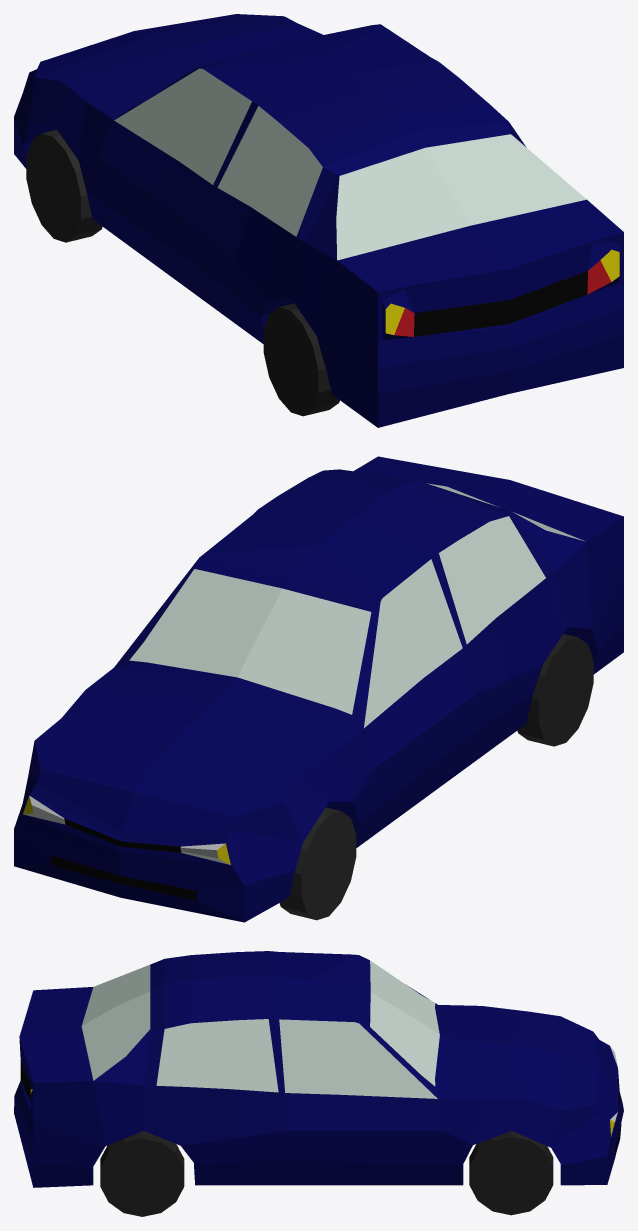
Rendered from accent.fbx.
The picture shows the model from 3 angles, top to bottom: view 1: azimuth 30°, elevation 25°; view 2: azimuth 150°, elevation 25°; view 3: azimuth 270°, elevation 25°; orthographic projection. The views are drawn at different scales.
Visible parts, largest first — view 1: Plane, Cylinder.001, Cylinder; view 2: Plane, Cylinder, Cylinder.001; view 3: Plane, Cylinder.003, Cylinder.002.
Part boxes in pixels (left/top/right/bottom): Plane: left=14, top=14, right=623, bottom=427; Cylinder.001: left=263, top=303, right=339, bottom=416; Cylinder: left=26, top=130, right=102, bottom=242; Plane: left=14, top=456, right=623, bottom=922; Cylinder: left=279, top=807, right=356, bottom=920; Cylinder.001: left=517, top=634, right=593, bottom=746; Plane: left=14, top=951, right=623, bottom=1187; Cylinder.003: left=100, top=1131, right=184, bottom=1216; Cylinder.002: left=469, top=1131, right=553, bottom=1215.
Bounding box in the file's own units: 856 × 731 × 2117.
